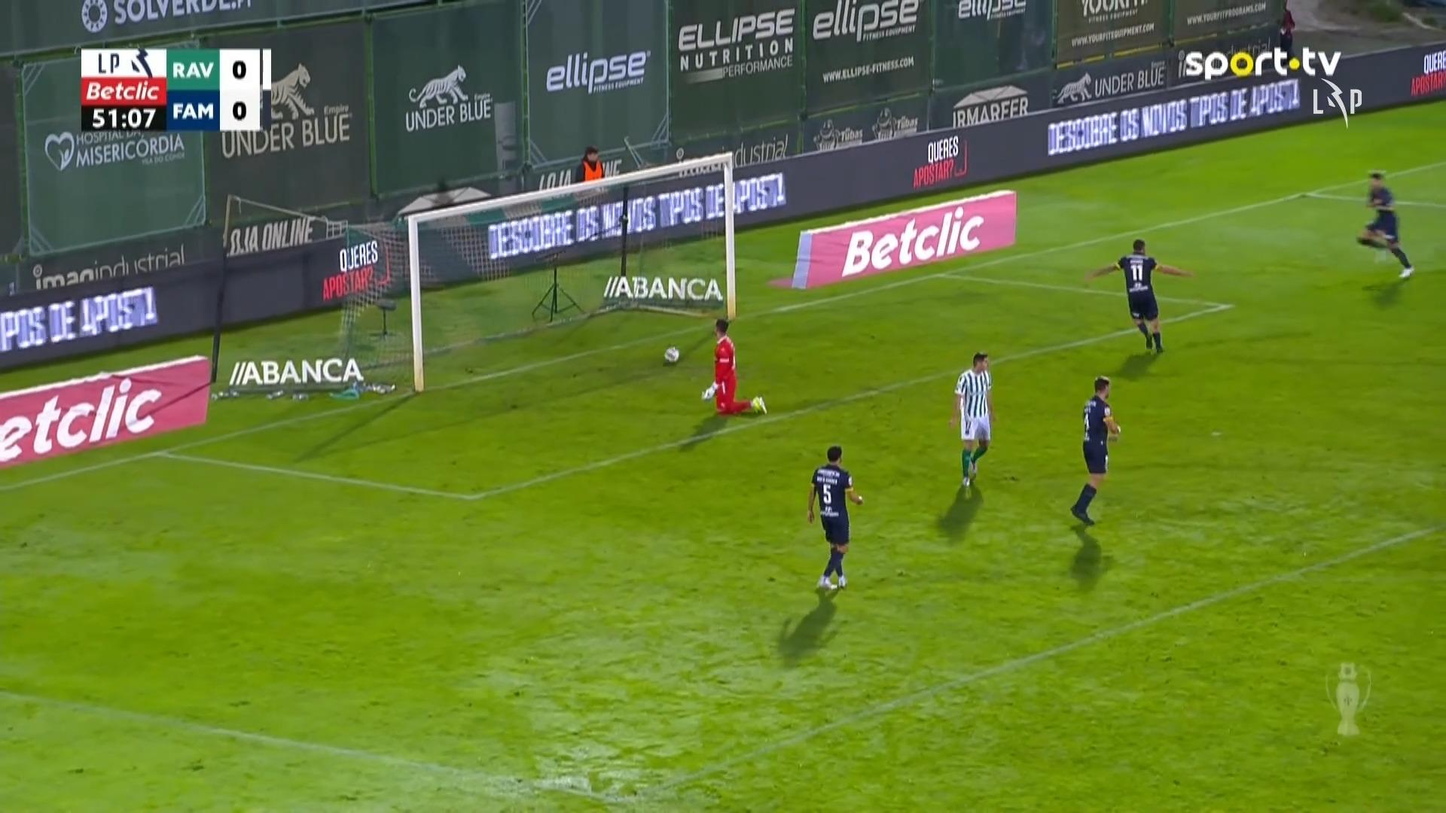ball: (664, 346, 679, 364)
goalkeeper: (700, 318, 767, 416)
player: (1084, 237, 1194, 355), (805, 444, 864, 589), (1069, 374, 1121, 525), (947, 351, 996, 488), (1355, 169, 1414, 278)
